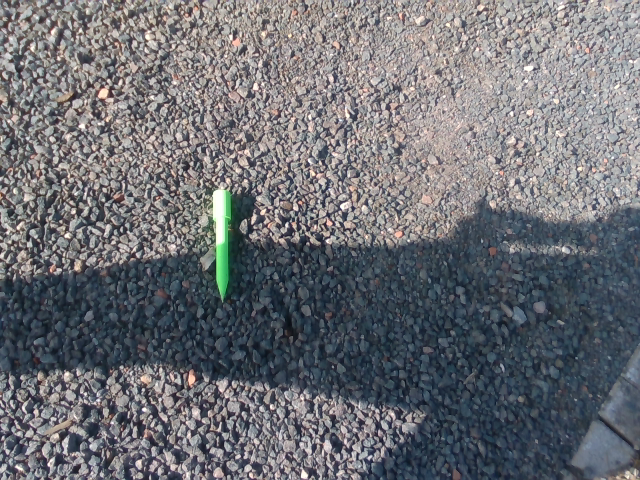Probe: (209, 187, 234, 307)
